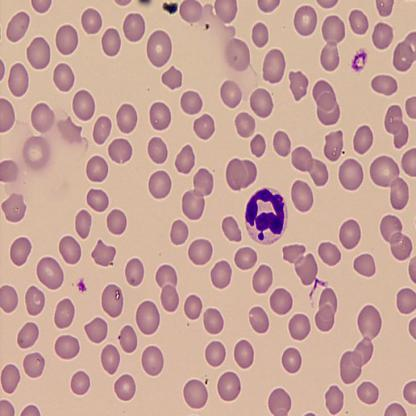Segmented neutrophil: (242, 185, 290, 250)
